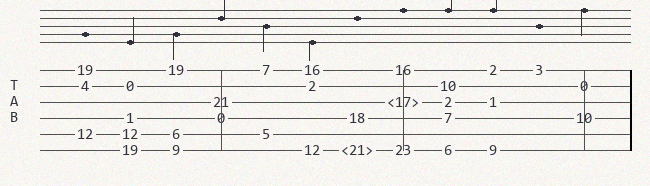0: (126, 79, 138, 93), (217, 111, 229, 125), (580, 79, 592, 93)
1: (126, 111, 138, 125), (489, 95, 501, 109)
10: (440, 79, 460, 93), (576, 111, 596, 125)
12: (77, 127, 97, 141), (122, 127, 142, 141), (304, 143, 324, 157)
16: (304, 63, 324, 77), (395, 63, 415, 77)
18: (349, 111, 369, 125)
19: (77, 63, 97, 77), (122, 143, 142, 157), (168, 63, 188, 77)
2: (308, 79, 320, 93), (444, 95, 456, 109), (489, 63, 501, 77)
21: (213, 95, 233, 109)
23: (395, 143, 415, 157)
3: (535, 63, 547, 77)
4: (81, 79, 93, 93)
5: (262, 127, 274, 141)
6: (172, 127, 184, 141), (444, 143, 456, 157)
7: (262, 63, 274, 77), (444, 111, 456, 125)
9: (172, 143, 184, 157), (489, 143, 501, 157)
harmonic: (341, 143, 377, 157), (387, 95, 423, 109)
